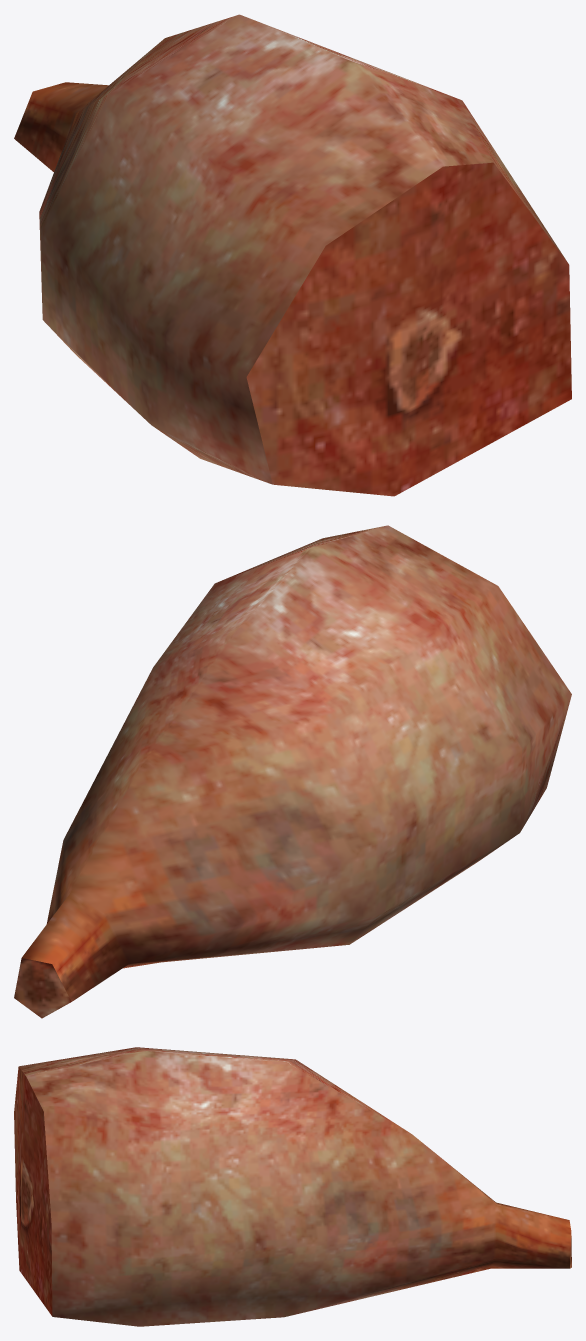
File: edb_all_meat_s01_l1.fbx
3 views of the same model, one above another, from view 1: azimuth 30°, elevation 25°; view 2: azimuth 150°, elevation 25°; view 3: azimuth 270°, elevation 25° (orthographic). The views are drawn at different scales.
Parts seen in each view (by area): view 1: mesh_node; view 2: mesh_node; view 3: mesh_node.
Boxes of the visible parts, box(x1,y1,x2,y2) form: mesh_node: box(14, 14, 571, 496); mesh_node: box(14, 525, 571, 1018); mesh_node: box(14, 1047, 571, 1326).
Bounding box in the file's own units: 0.4533 × 0.3955 × 0.8148.
1 material, 1 textured.
